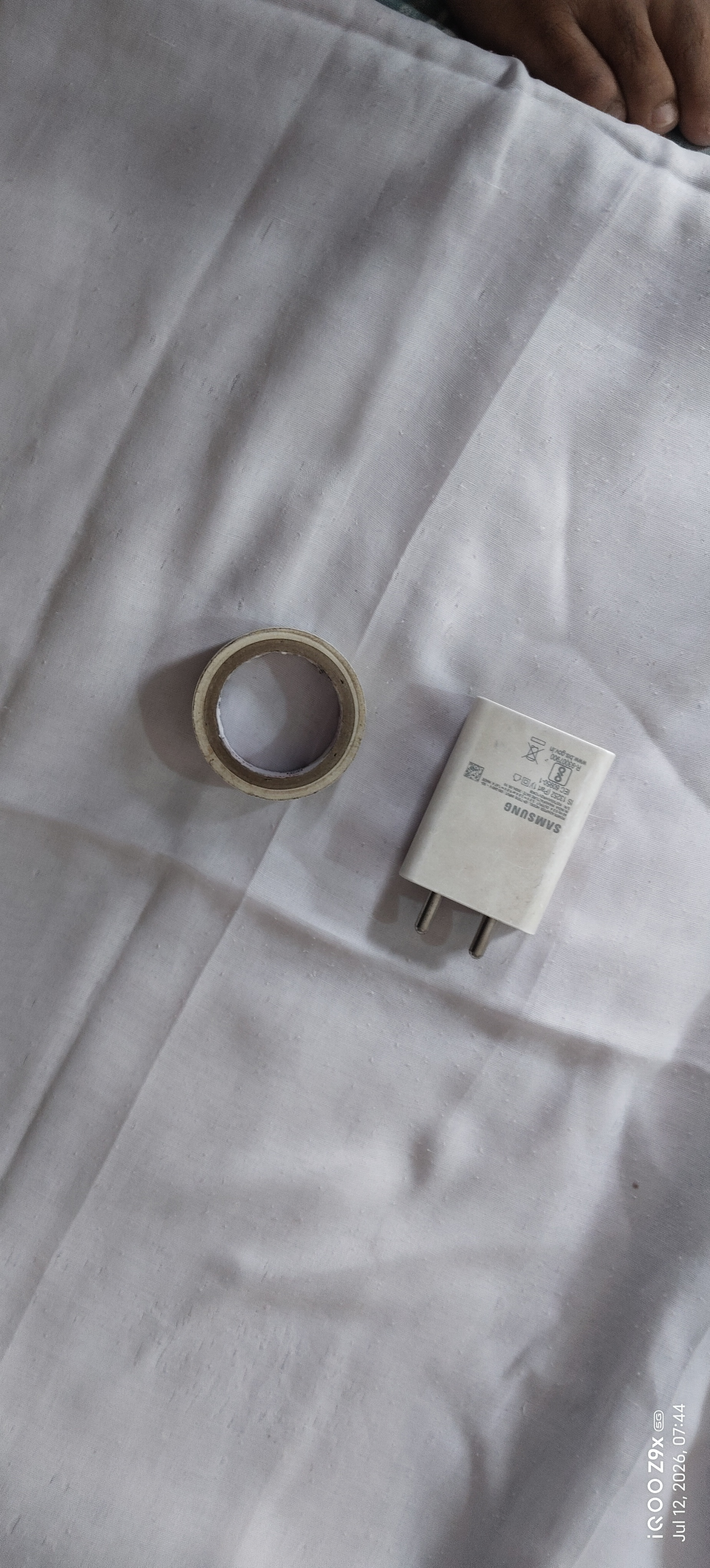charger: (388, 652, 626, 985)
tape_roll: (165, 617, 380, 814)
